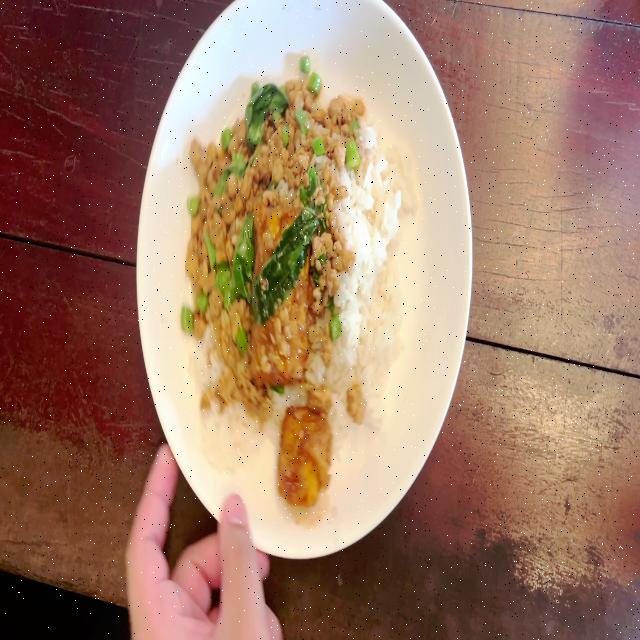fried_tofo: (255, 196, 307, 387), (283, 411, 324, 497)
minced_pork: (191, 68, 256, 402), (257, 53, 357, 197), (306, 180, 340, 330)
rice: (337, 130, 406, 420), (198, 408, 255, 470)
stir_fried_basil: (180, 51, 402, 509)
